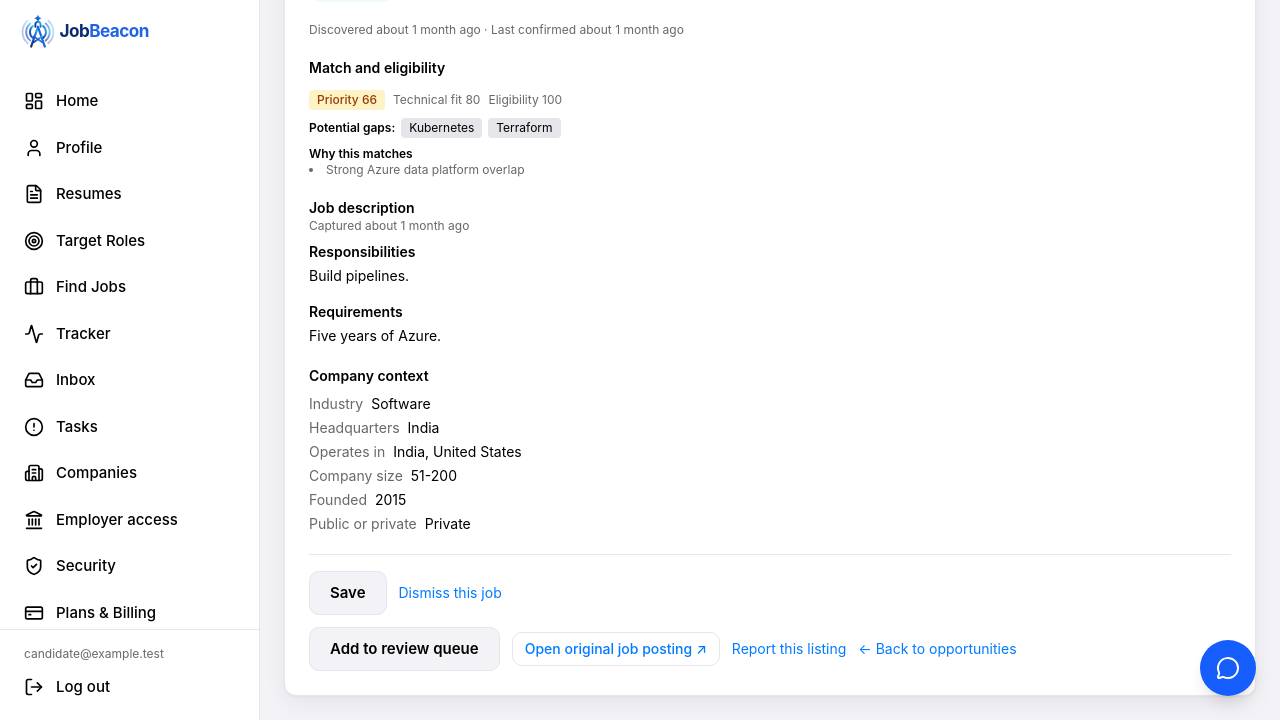
Test: #/jobs/:jobId › queues the listing and reports the outcome
This screenshot has width=1280, height=720.
(page scrolled)
Click the button "Add to review queue" at (404, 649), box [309,627,500,671]
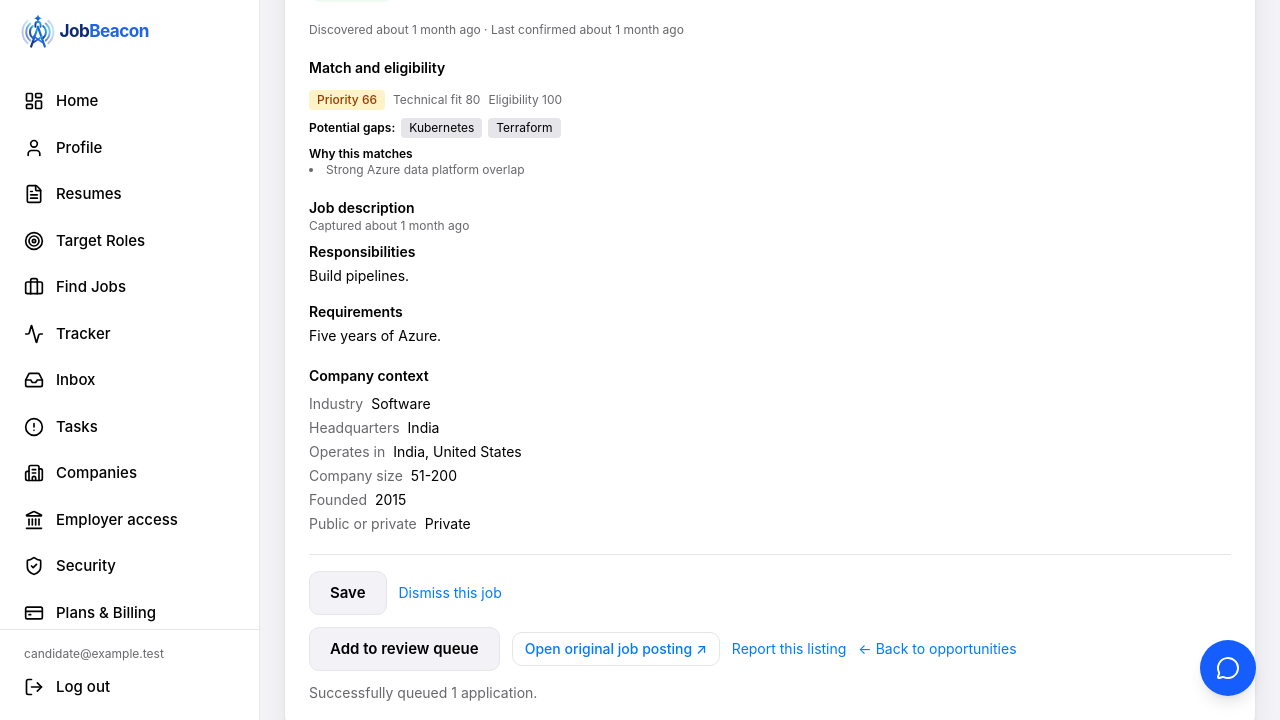
Expected: the text "Successfully queued 1 application." is shown, [309,684,537,701]
